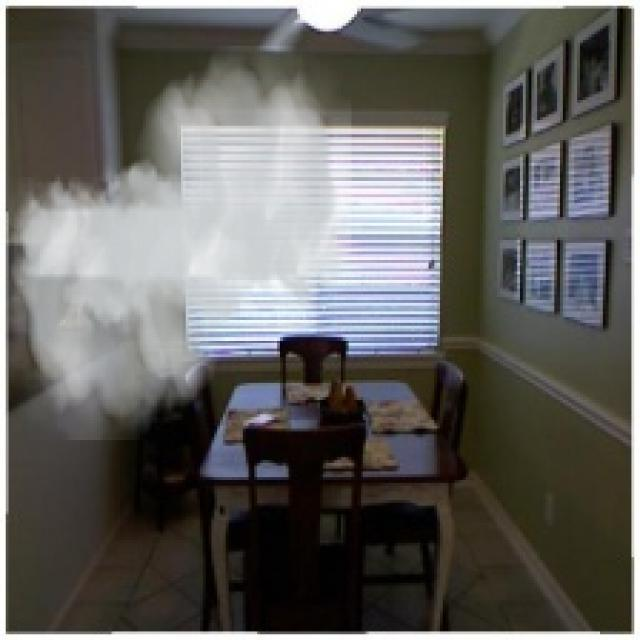smoke: (9, 46, 352, 440)
